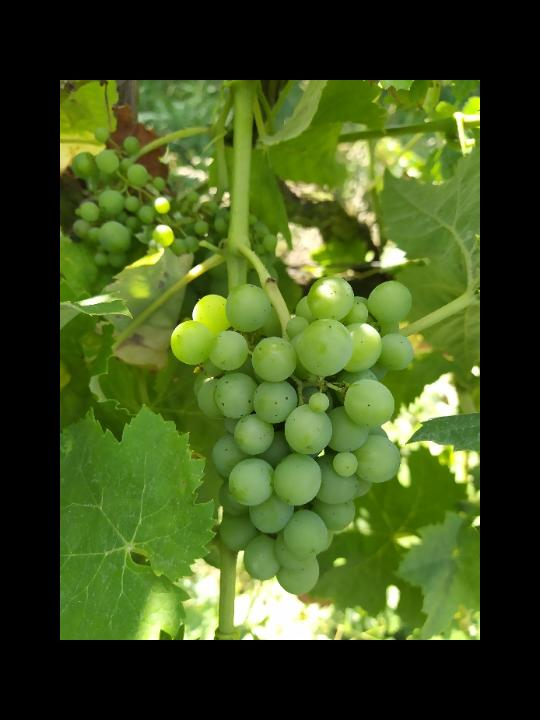grape: (169, 275, 415, 595)
